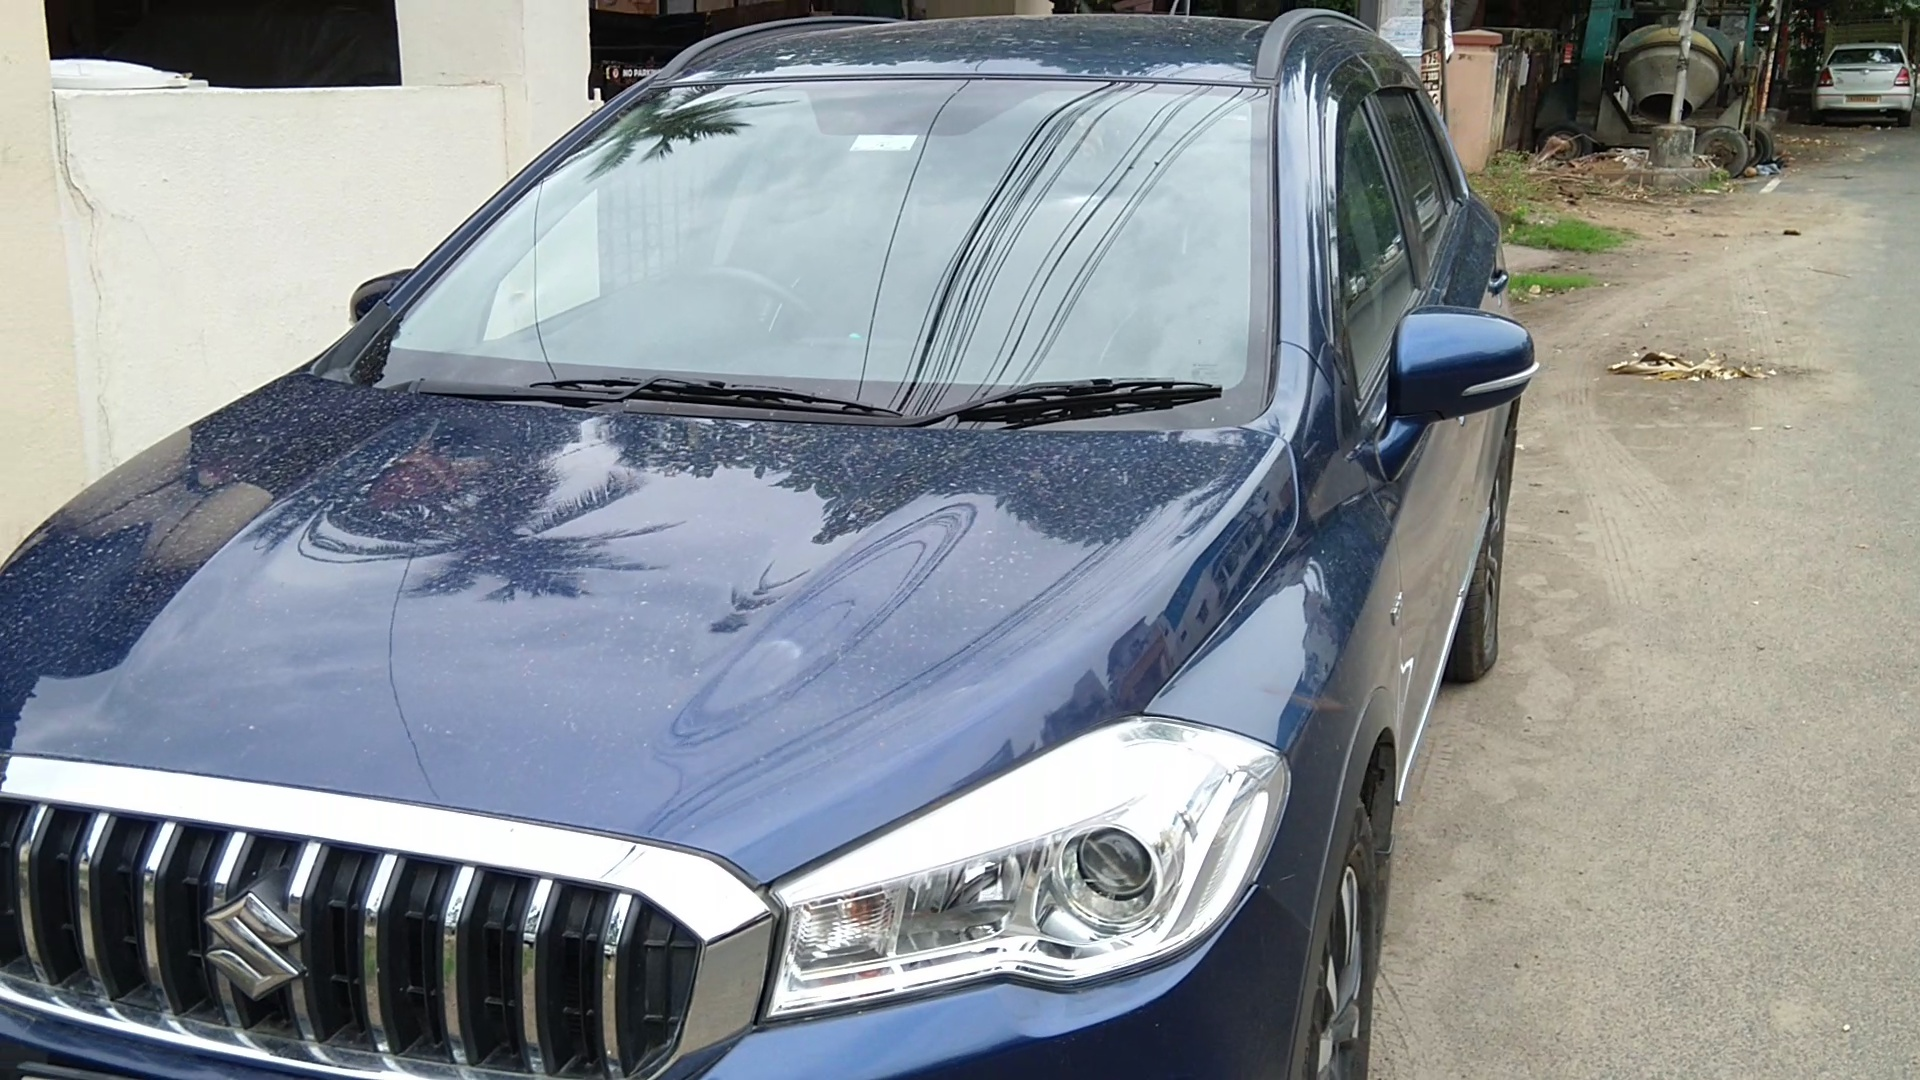front_grill: (11, 742, 758, 1080)
headlamp: (764, 690, 1308, 1055)
ovr_mirror: (1387, 302, 1545, 436)
